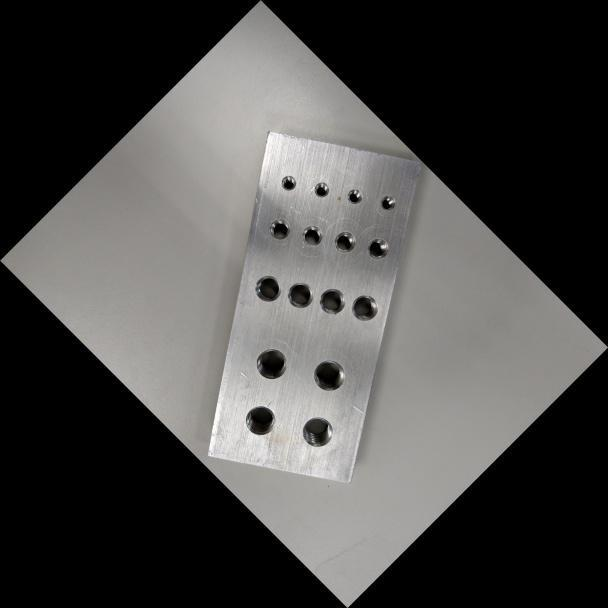hole: (305, 352, 352, 398), (248, 341, 294, 386), (295, 409, 340, 454), (238, 398, 282, 442), (248, 269, 287, 308), (345, 288, 383, 327), (313, 282, 351, 320), (281, 276, 319, 314), (361, 233, 393, 264), (329, 226, 360, 257), (296, 220, 327, 251), (264, 213, 295, 244), (342, 184, 366, 208), (376, 191, 399, 214), (277, 171, 300, 194), (310, 178, 332, 201)
